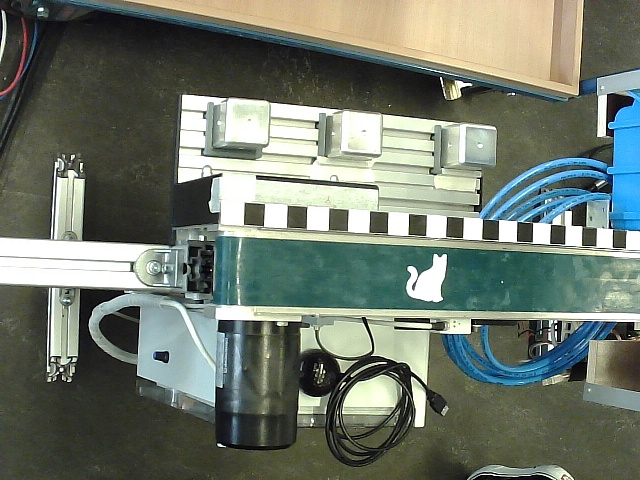cat: (406, 253, 448, 303)
